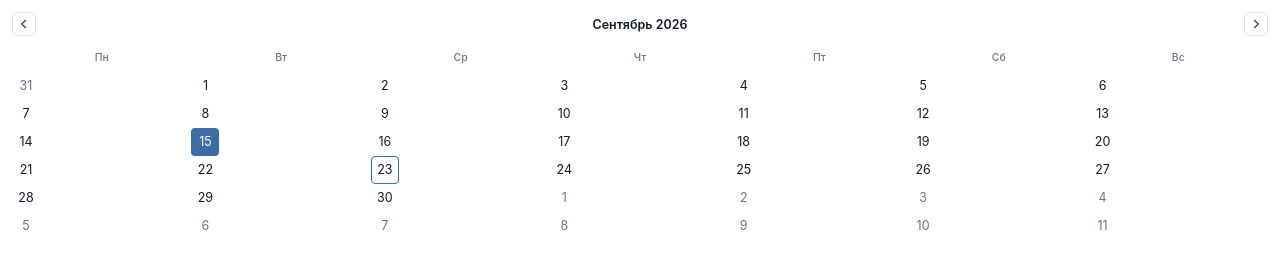
Test: Calendar › кнопки месяцев листают
The width and height of the screenshot is (1280, 257).
Click the button named "Следующий месяц": (1256, 24) [1244,12,1268,36]
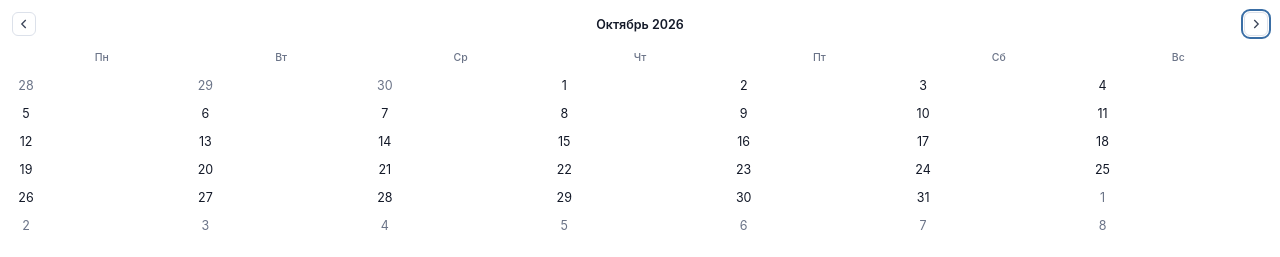
Result: the table named "Октябрь 2026" is shown
Click the button named "Предыдущий месяц": (24, 24) [12,12,36,36]
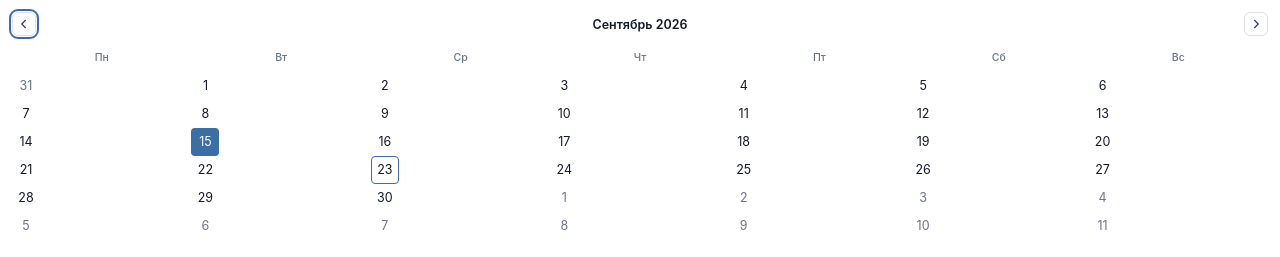
Click the button named "Предыдущий месяц": (24, 24) [12,12,36,36]
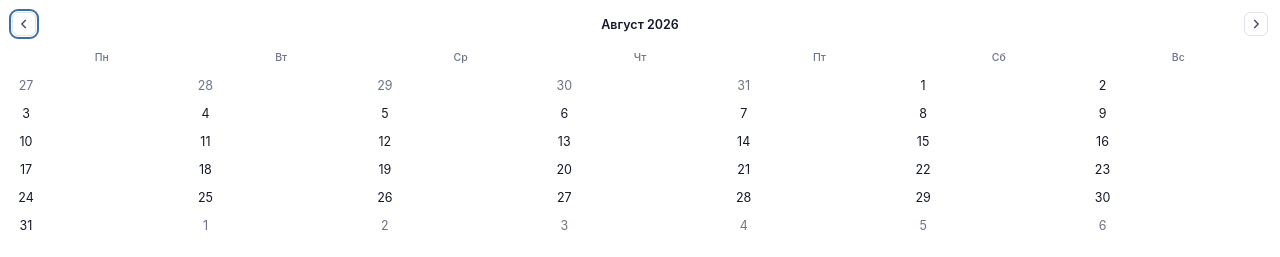
Result: the table named "Август 2026" is shown
